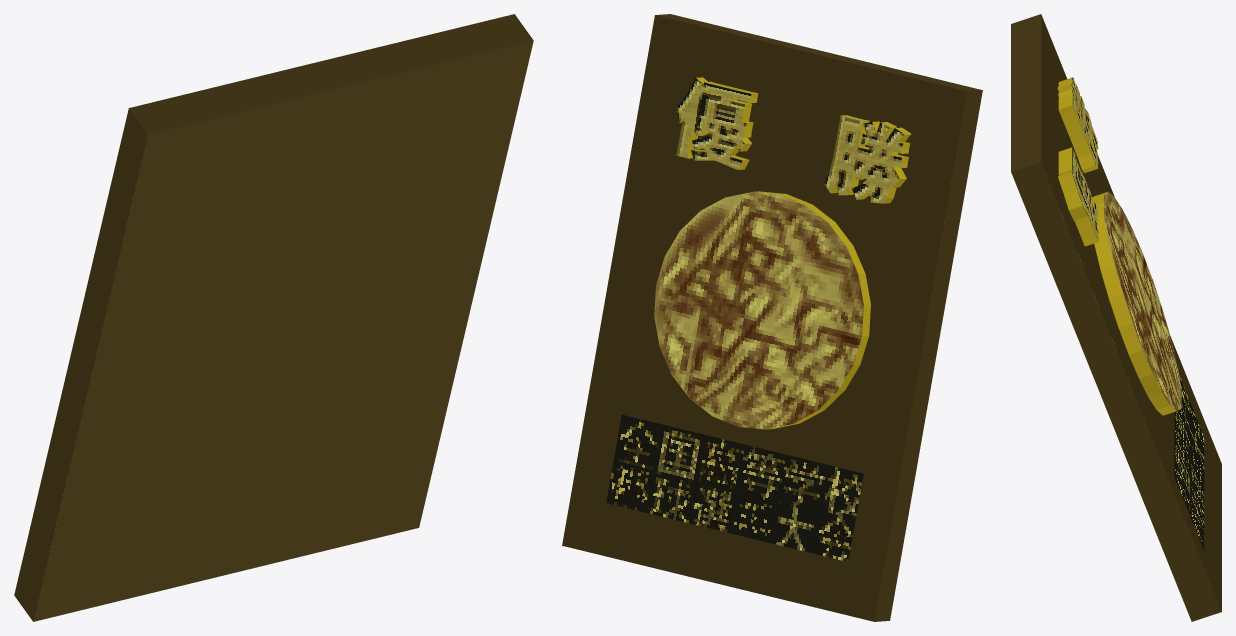
File: ps2_save-icons_eikanwakiminikoushienenomichi.glb
3 renders of one model, left to right at view 1: azimuth 30°, elevation 25°; view 2: azimuth 150°, elevation 25°; view 3: azimuth 270°, elevation 25°, orthographic. The views are drawn at different scales.
Visible parts, largest first — view 1: mcico_0.ico; view 2: mcico_0.ico; view 3: mcico_0.ico.
Part boxes in pixels (bbox=[...]): mcico_0.ico: bbox=[14, 14, 533, 621]; mcico_0.ico: bbox=[562, 14, 982, 621]; mcico_0.ico: bbox=[1011, 14, 1221, 621].
Bounding box in the file's own units: 3.21 × 4.63 × 1.93.
Materials: 1 (1 with a texture image).
